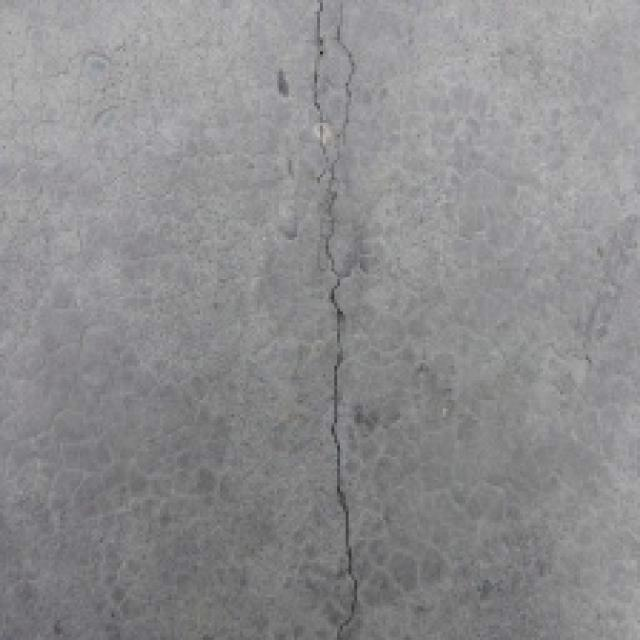SurfaceCrack: (274, 0, 384, 630)
